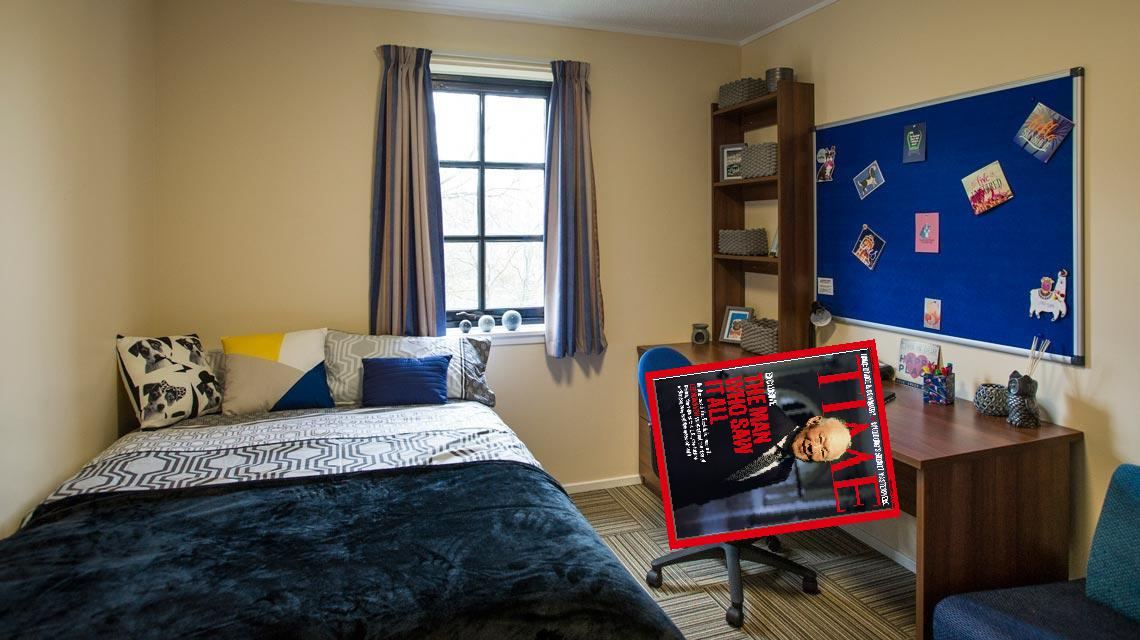times: (643, 327, 901, 556)
